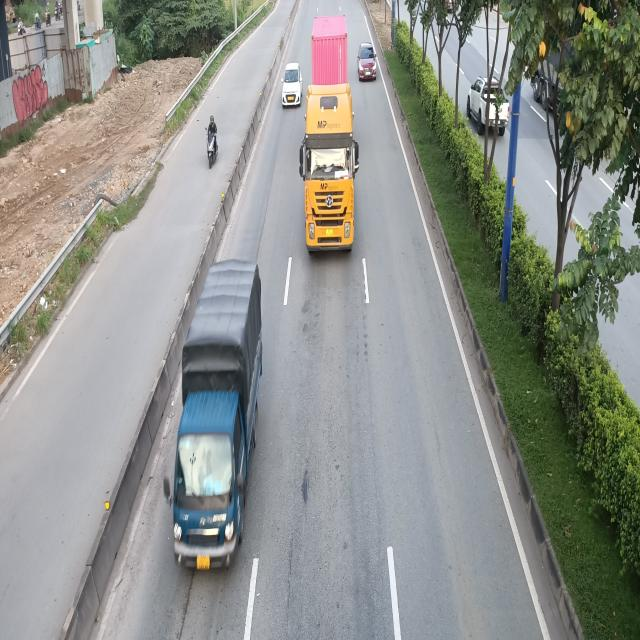car: (282, 64, 303, 108), (356, 42, 376, 81)
container: (296, 16, 358, 257)
truck: (159, 259, 260, 576)
